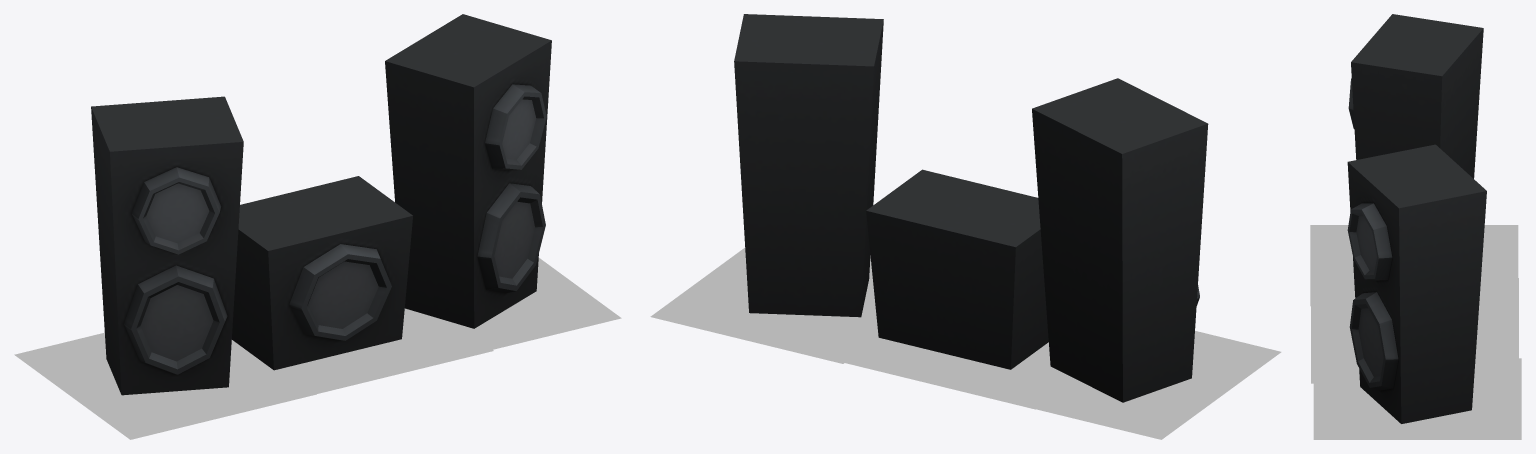
File: 3x1_speaker.FBX
The picture shows the model from 3 angles, left to right: view 1: azimuth 30°, elevation 25°; view 2: azimuth 150°, elevation 25°; view 3: azimuth 270°, elevation 25°; orthographic projection. The views are drawn at different scales.
Parts seen in each view (by area): view 1: 3x1_speaker, 3x1_speaker_soft_shadow; view 2: 3x1_speaker, 3x1_speaker_soft_shadow; view 3: 3x1_speaker, 3x1_speaker_soft_shadow.
Boxes of the visible parts, x1,y1,x2,y2 form: 3x1_speaker: (91,14,551,395); 3x1_speaker_soft_shadow: (14,258,621,439); 3x1_speaker: (734,14,1208,402); 3x1_speaker_soft_shadow: (650,247,1281,439); 3x1_speaker: (1347,14,1486,423); 3x1_speaker_soft_shadow: (1310,225,1521,439).
Bounding box in the file's own units: 3142 × 1524 × 1304.
